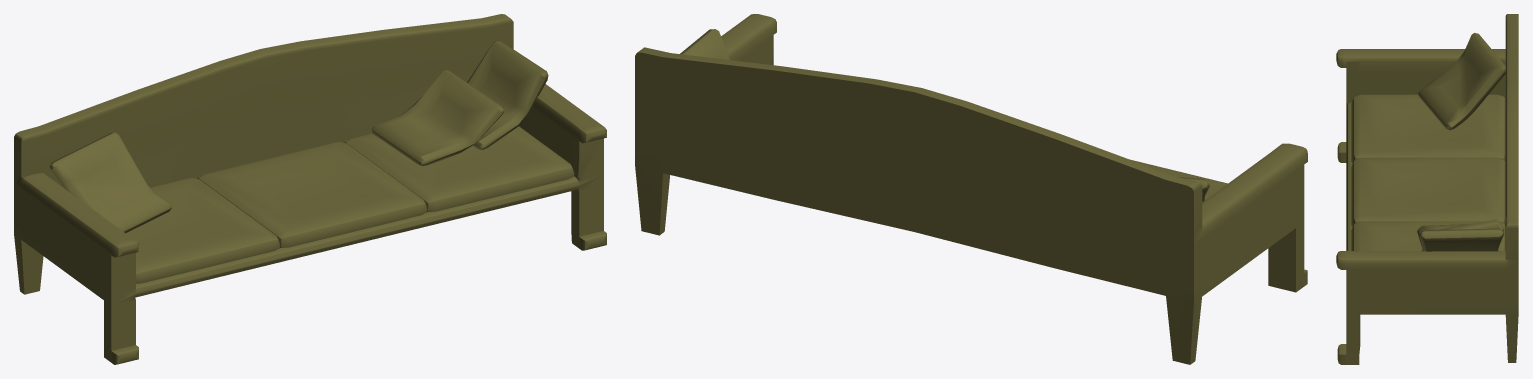
Rendered from FBX_Sofa_01.fbx.
3 renders of one model, left to right at view 1: azimuth 30°, elevation 25°; view 2: azimuth 150°, elevation 25°; view 3: azimuth 270°, elevation 25°, orthographic. The views are drawn at different scales.
Parts seen in each view (by area): view 1: polySurface38; view 2: polySurface38; view 3: polySurface38.
Part boxes in pixels (x1,y1,x2,y2): polySurface38: [14, 14, 606, 364]; polySurface38: [635, 14, 1307, 364]; polySurface38: [1336, 14, 1518, 364].
Size of the model in its own units: 2.63 by 0.9305 by 0.9528.
